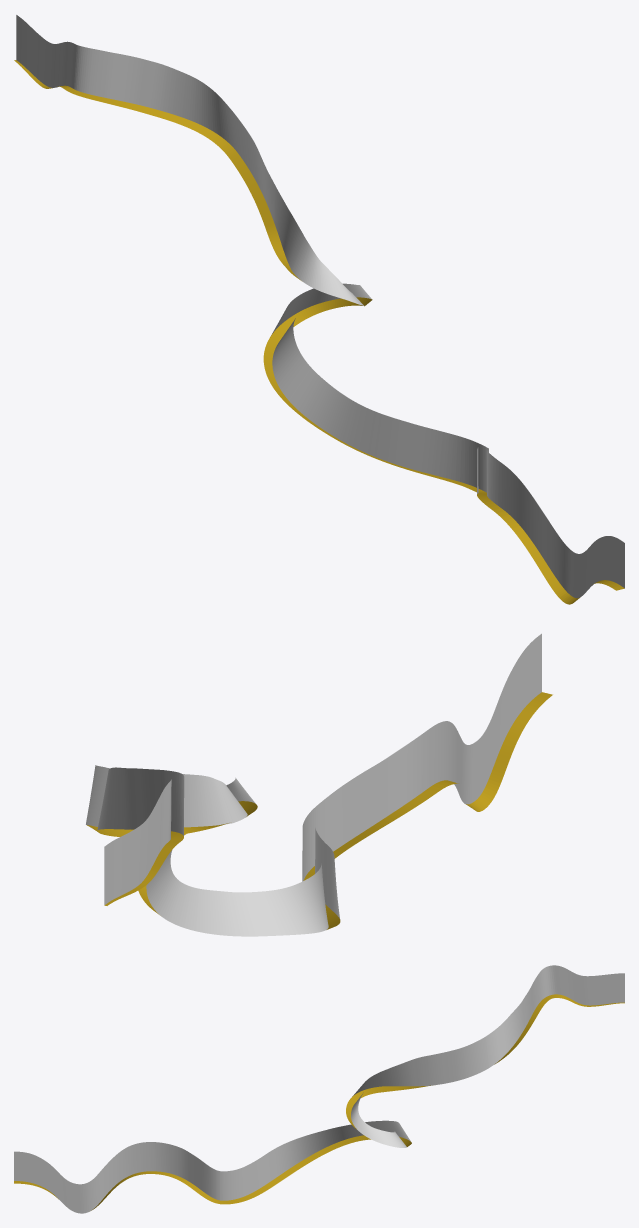
File: SkyRoad01.gltf
3 renders of one model, top to bottom at view 1: azimuth 30°, elevation 25°; view 2: azimuth 150°, elevation 25°; view 3: azimuth 270°, elevation 25°, orthographic. The views are drawn at different scales.
Parts seen in each view (by area): view 1: SkyRoadWall01, SkyRoad01; view 2: SkyRoadWall01, SkyRoad01; view 3: SkyRoadWall01, SkyRoad01.
Part boxes in pixels (<box>): SkyRoadWall01: <box>16,15,624,598</box>; SkyRoad01: <box>14,60,624,604</box>; SkyRoadWall01: <box>86,633,541,936</box>; SkyRoad01: <box>87,692,552,929</box>; SkyRoadWall01: <box>14,965,624,1213</box>; SkyRoad01: <box>14,994,624,1210</box>.
Bounding box in the file's own units: 74.58 × 140 × 376.
